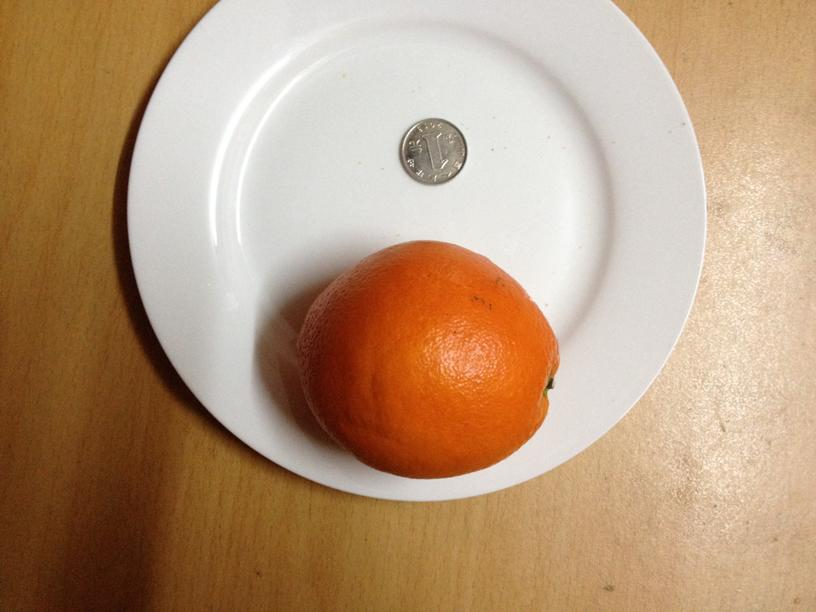coin: (399, 118, 467, 183)
orange: (290, 238, 559, 480)
